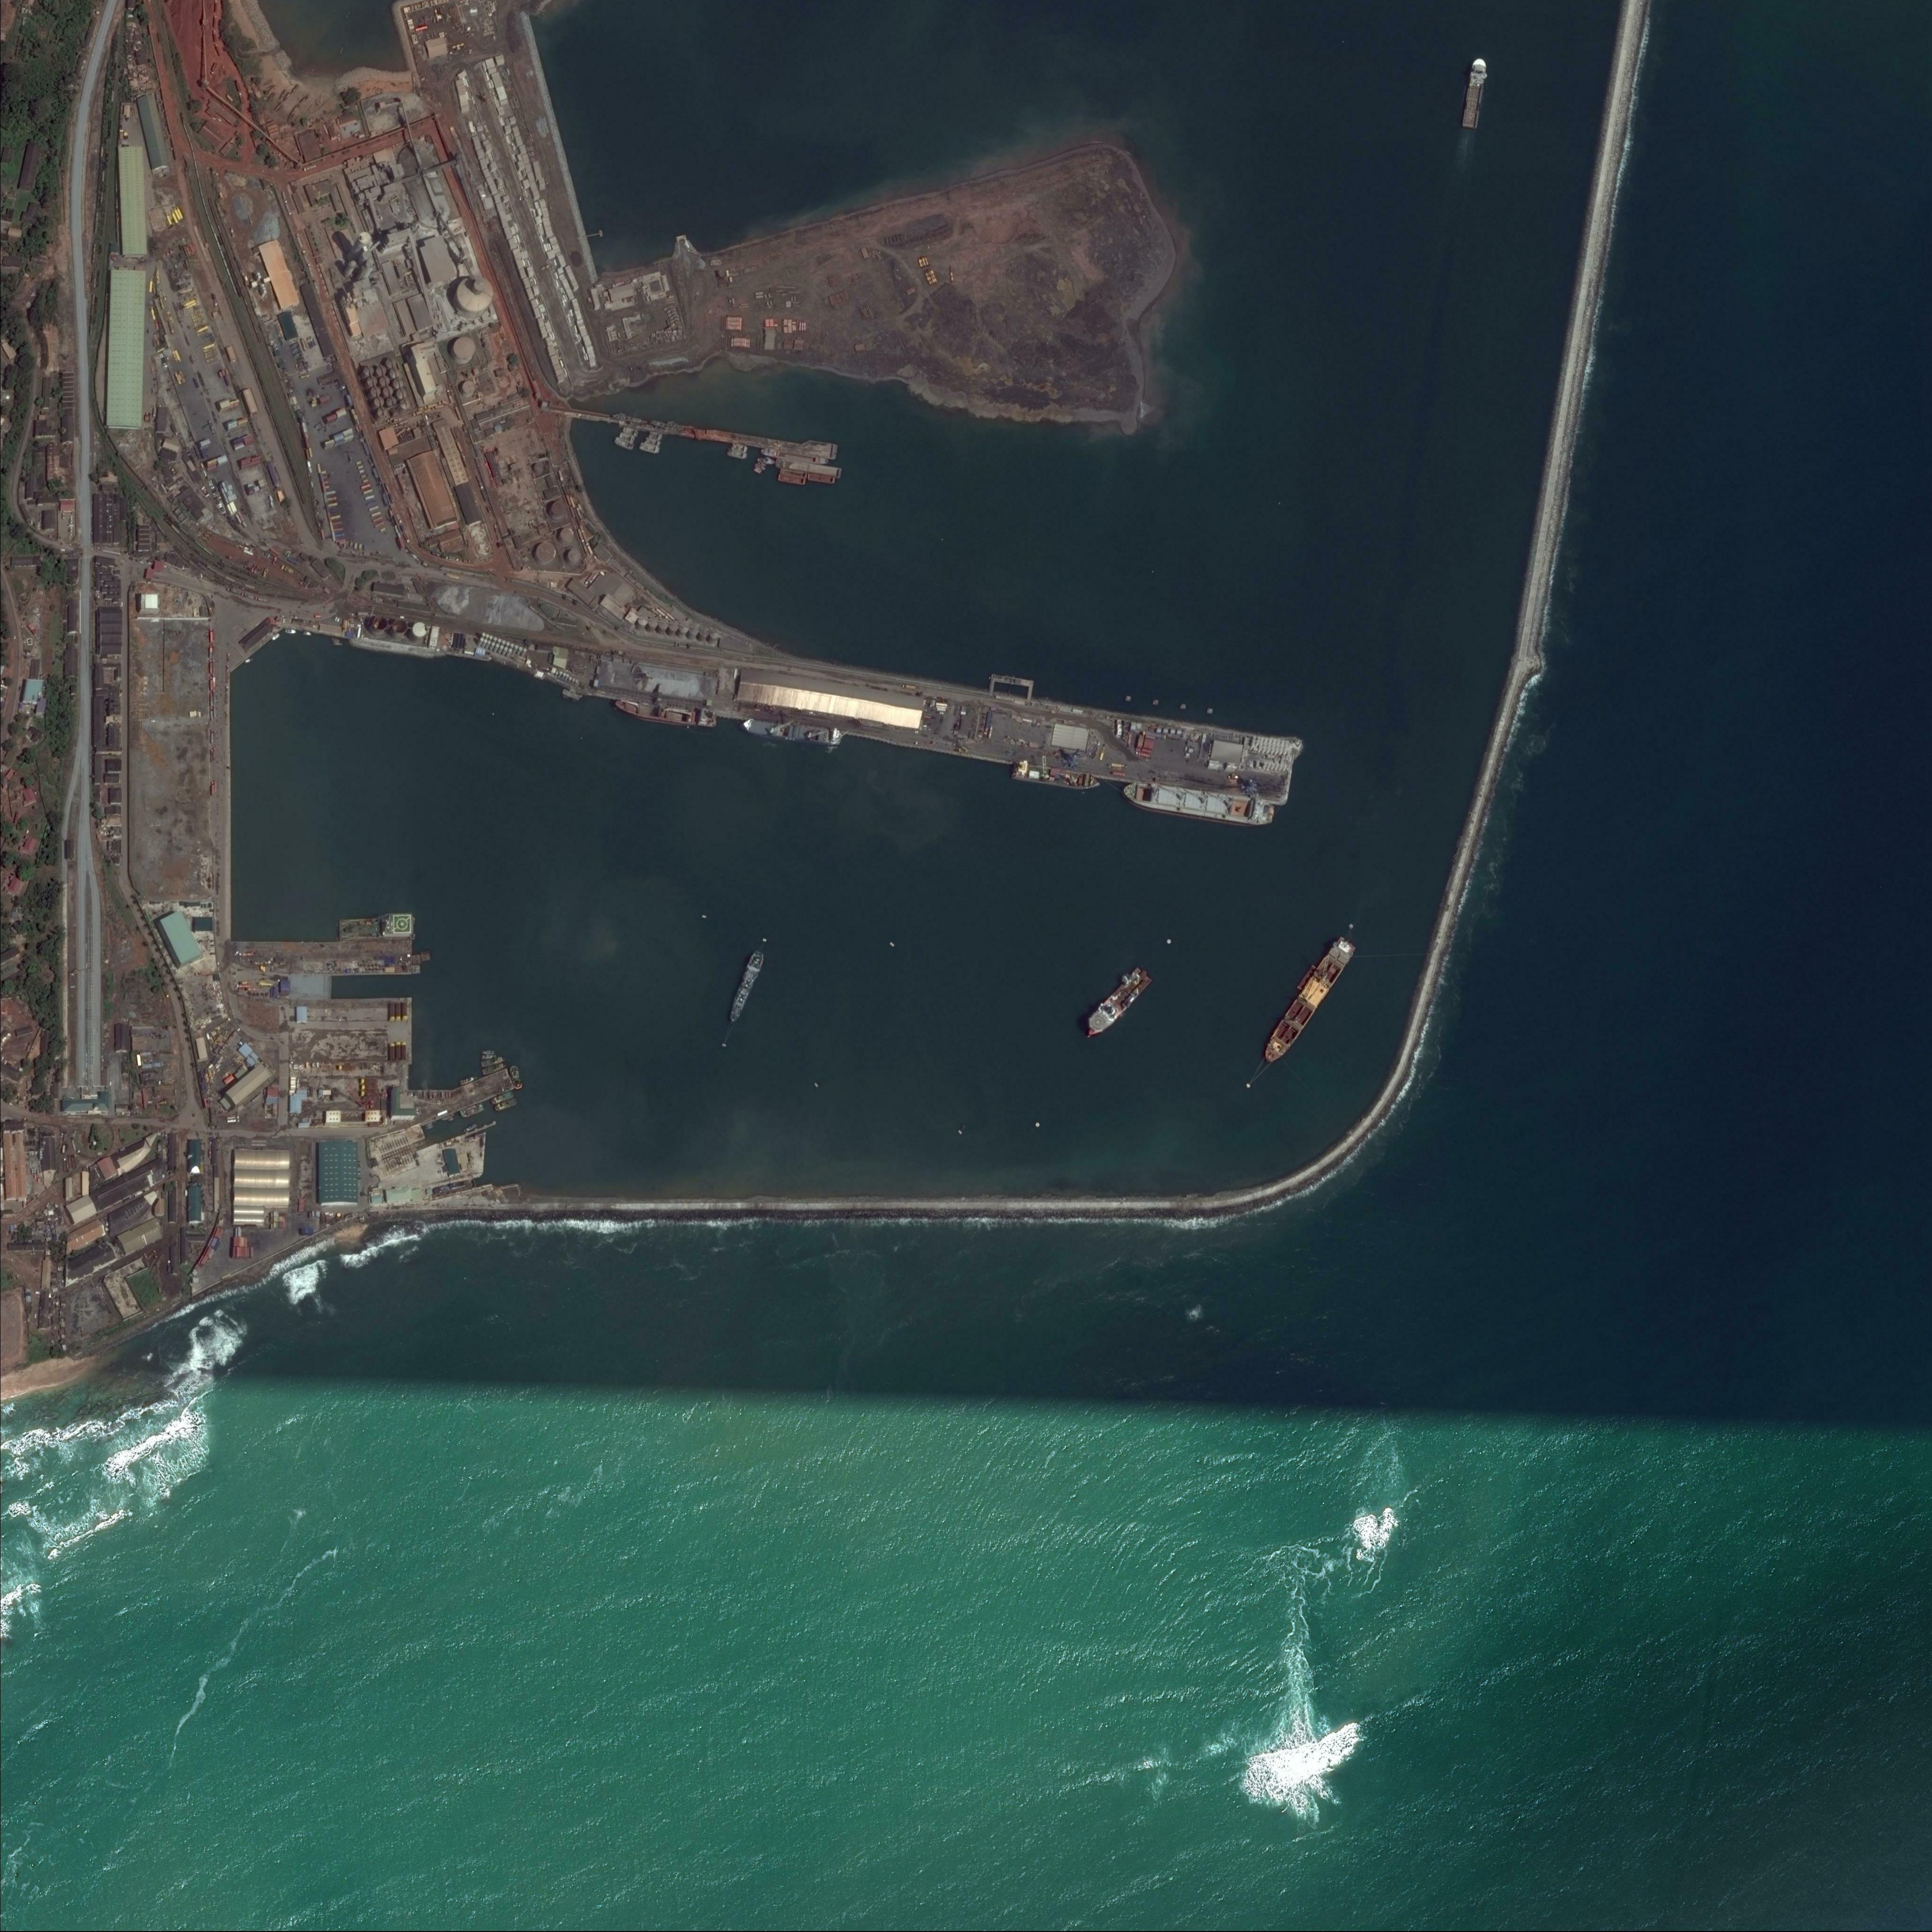harbor: (571, 405, 837, 460), (409, 1056, 515, 1125)
ship: (1256, 934, 1359, 1070), (1120, 780, 1276, 832), (1077, 964, 1154, 1042), (738, 715, 842, 748), (612, 697, 718, 729), (725, 950, 768, 1023), (1008, 761, 1104, 793), (1461, 57, 1488, 131), (338, 915, 416, 939), (775, 458, 840, 478), (759, 448, 830, 465), (481, 1060, 508, 1076), (508, 1065, 524, 1090), (460, 1102, 483, 1118), (777, 474, 805, 487), (807, 472, 835, 485), (490, 1090, 515, 1104), (494, 1099, 518, 1113), (481, 1054, 508, 1067), (612, 437, 635, 451), (780, 469, 807, 479), (727, 448, 748, 460), (639, 442, 660, 455), (458, 1074, 478, 1086), (617, 432, 635, 442), (623, 426, 639, 437), (644, 437, 660, 448), (757, 456, 775, 465), (731, 444, 748, 453), (462, 1123, 478, 1132), (648, 432, 662, 441), (481, 1053, 497, 1060), (244, 656, 255, 665), (272, 633, 281, 642), (285, 628, 297, 633), (481, 1051, 495, 1054), (303, 632, 311, 635)
